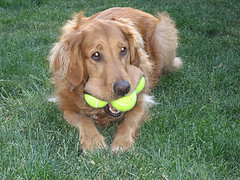tennis ball: (110, 92, 139, 111), (81, 91, 109, 109), (129, 77, 148, 93)
